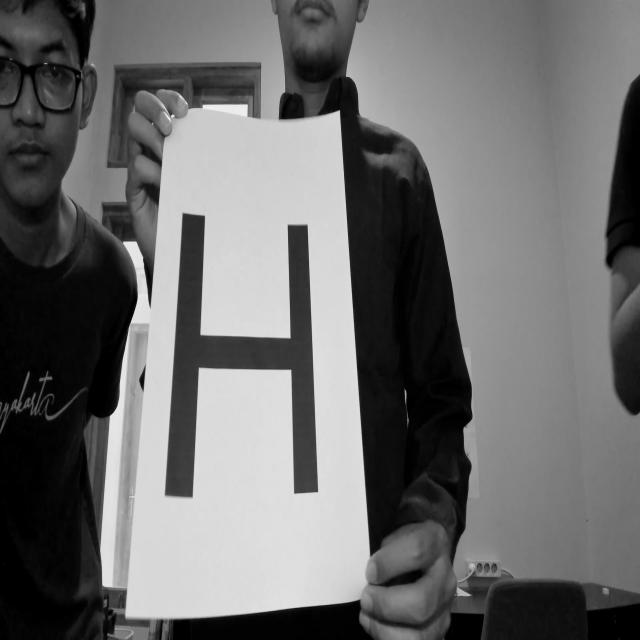h: (162, 195, 330, 568)
